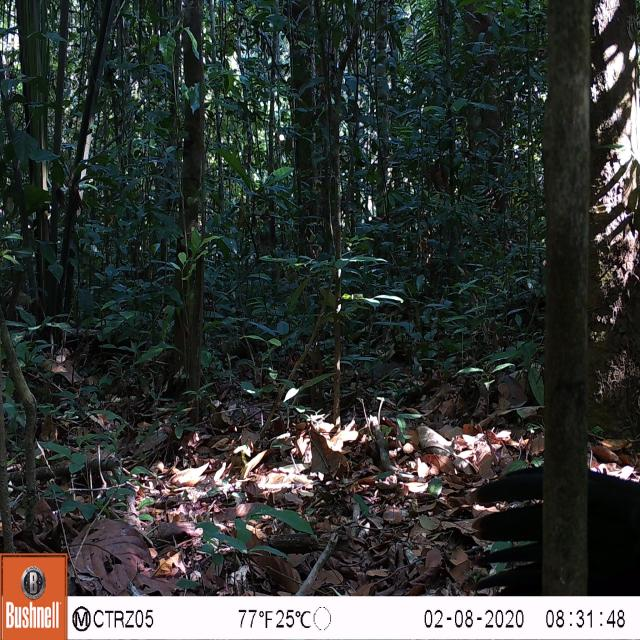Salvins Curassow: (451, 431, 640, 597)
